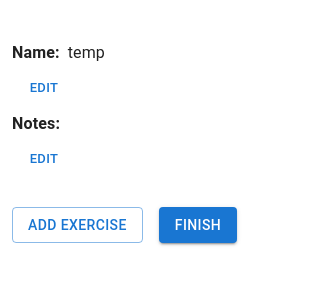
Scenario: TemplateWorkoutContainer › shows error when submitting without exercises
Click the button "Finish".
click(198, 225)  # box [159, 206, 237, 243]
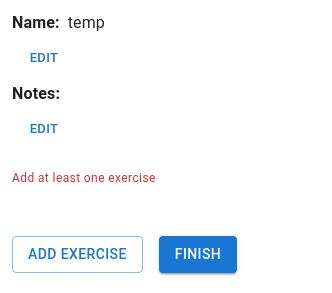
Now the text "Add at least one exercise" is shown, box [12, 170, 156, 184]
